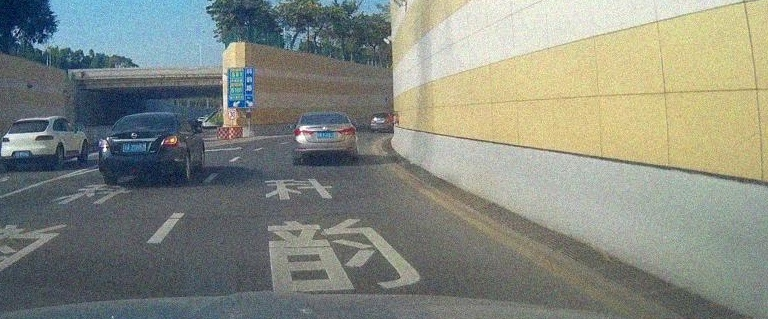L_light: (293, 128, 314, 137), (98, 137, 110, 152), (2, 137, 10, 142)
R_light: (1, 117, 54, 170), (160, 135, 178, 149), (339, 126, 355, 135), (35, 135, 54, 141)
T_light: (136, 127, 150, 130), (25, 120, 35, 123), (319, 114, 328, 117)
day-no: (293, 111, 356, 164)
day-right: (98, 113, 186, 185)
